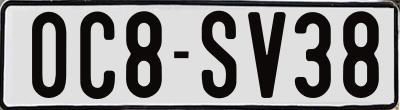0: (29, 10, 69, 98)
3: (295, 12, 335, 100)
8: (123, 11, 159, 103), (340, 11, 376, 102)
C: (80, 10, 115, 101)
S: (201, 8, 240, 101)
V: (248, 12, 286, 99)
